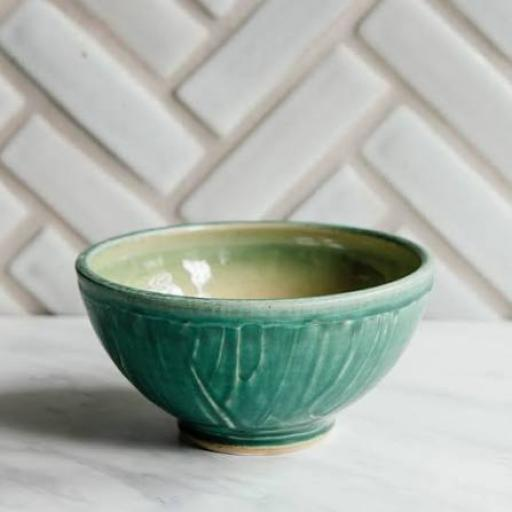Bowl: (77, 221, 432, 452)
